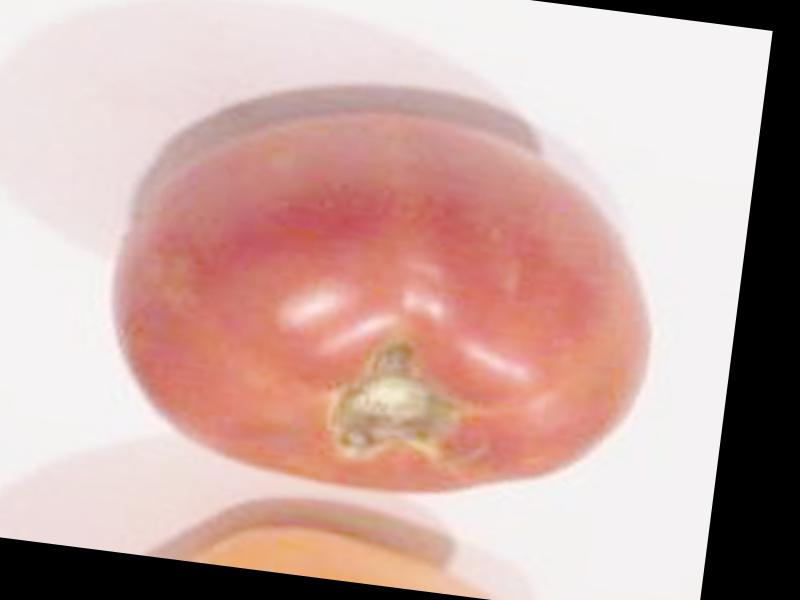Tomato: (96, 86, 675, 520)
